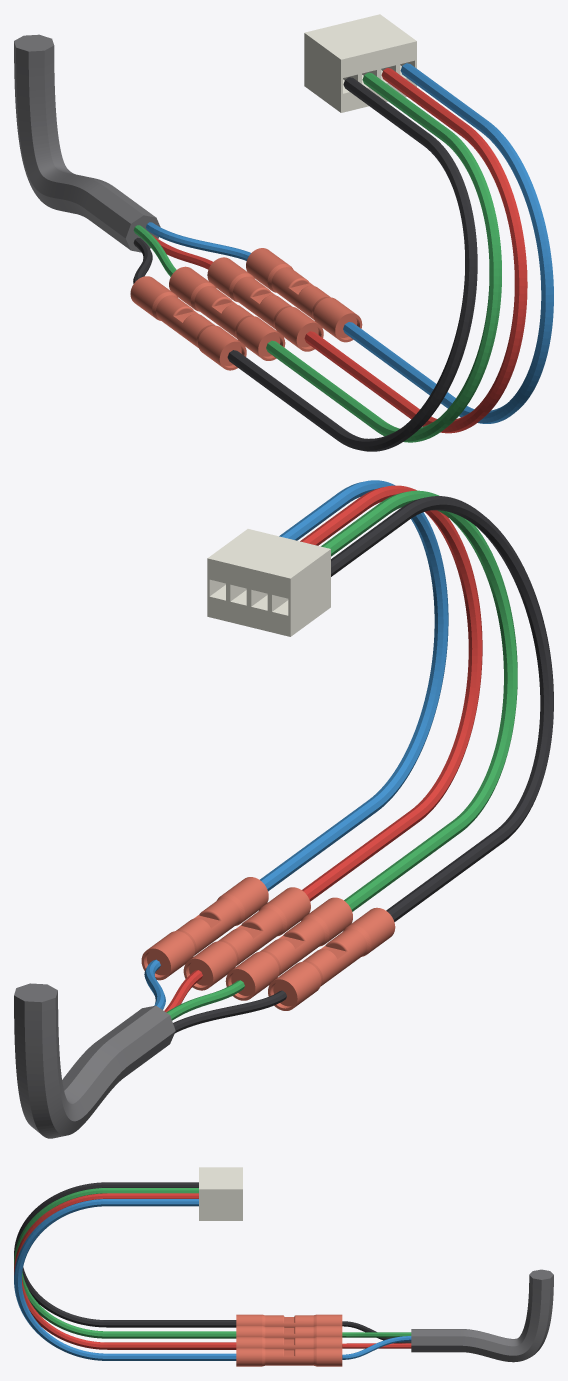
File: harness-proposal.glb
3 views of the same model, one above another, from view 1: azimuth 30°, elevation 25°; view 2: azimuth 150°, elevation 25°; view 3: azimuth 270°, elevation 25° (orthographic). The views are drawn at different scales.
Parts seen in each view (by area): view 1: motor_factory_cable_jacket_rerouted, J2 cavity 1 black Alpha3057_16AWG, J2 cavity 2 green Alpha3057_16AWG, J2 cavity 3 red Alpha3057_16AWG, J2 cavity 4 blue Alpha3057_16AWG, J2_VHR_4N_mating_housing, TE320559_splice_1, TE320559_splice_2, TE320559_splice_3, TE320559_splice_4, motor_blue_lead_to_splice_4, motor_green_lead_to_splice_2 (+1 smaller); view 2: motor_factory_cable_jacket_rerouted, J2_VHR_4N_mating_housing, J2 cavity 1 black Alpha3057_16AWG, J2 cavity 2 green Alpha3057_16AWG, J2 cavity 3 red Alpha3057_16AWG, J2 cavity 4 blue Alpha3057_16AWG, TE320559_splice_1, TE320559_splice_3, TE320559_splice_2, TE320559_splice_4, motor_black_lead_to_splice_1, motor_green_lead_to_splice_2; view 3: motor_factory_cable_jacket_rerouted, J2 cavity 4 blue Alpha3057_16AWG, J2 cavity 2 green Alpha3057_16AWG, J2 cavity 3 red Alpha3057_16AWG, J2 cavity 1 black Alpha3057_16AWG, J2_VHR_4N_mating_housing, TE320559_splice_4, TE320559_splice_2, TE320559_splice_1, TE320559_splice_3, motor_blue_lead_to_splice_4, motor_green_lead_to_splice_2 (+2 smaller).
Boxes of the visible parts, box(x1,y1,x2,y2) form: motor_factory_cable_jacket_rerouted: box(14, 34, 160, 252); J2 cavity 1 black Alpha3057_16AWG: box(227, 77, 477, 451); J2 cavity 2 green Alpha3057_16AWG: box(266, 72, 501, 442); J2 cavity 3 red Alpha3057_16AWG: box(304, 68, 527, 433); J2 cavity 4 blue Alpha3057_16AWG: box(343, 63, 553, 423); J2_VHR_4N_mating_housing: box(304, 14, 416, 112); TE320559_splice_1: box(130, 276, 246, 370); TE320559_splice_2: box(169, 266, 285, 360); TE320559_splice_3: box(207, 257, 323, 351); TE320559_splice_4: box(246, 248, 362, 342); motor_blue_lead_to_splice_4: box(146, 222, 250, 260); motor_green_lead_to_splice_2: box(133, 225, 176, 276); motor_factory_cable_jacket_rerouted: box(14, 983, 175, 1138); J2_VHR_4N_mating_housing: box(207, 529, 330, 636); J2 cavity 1 black Alpha3057_16AWG: box(331, 496, 553, 921); J2 cavity 2 green Alpha3057_16AWG: box(321, 490, 517, 911); J2 cavity 3 red Alpha3057_16AWG: box(300, 485, 482, 901); J2 cavity 4 blue Alpha3057_16AWG: box(260, 480, 448, 891); TE320559_splice_1: box(268, 907, 395, 1010); TE320559_splice_3: box(183, 887, 310, 990); TE320559_splice_2: box(225, 897, 352, 1000); TE320559_splice_4: box(141, 877, 268, 980); motor_black_lead_to_splice_1: box(173, 990, 286, 1033); motor_green_lead_to_splice_2: box(166, 980, 244, 1020); motor_factory_cable_jacket_rerouted: box(411, 1269, 553, 1362); J2 cavity 4 blue Alpha3057_16AWG: box(14, 1199, 236, 1360); J2 cavity 2 green Alpha3057_16AWG: box(14, 1188, 236, 1338); J2 cavity 3 red Alpha3057_16AWG: box(14, 1193, 236, 1349); J2 cavity 1 black Alpha3057_16AWG: box(14, 1182, 236, 1327); J2_VHR_4N_mating_housing: box(199, 1167, 242, 1220); TE320559_splice_4: box(236, 1348, 342, 1366); TE320559_splice_2: box(236, 1325, 342, 1339); TE320559_splice_1: box(236, 1314, 342, 1327); TE320559_splice_3: box(236, 1337, 342, 1350); motor_blue_lead_to_splice_4: box(342, 1336, 411, 1359); motor_green_lead_to_splice_2: box(342, 1332, 411, 1337).
Bounding box in the file's own units: 34.5 × 66.79 × 164.
